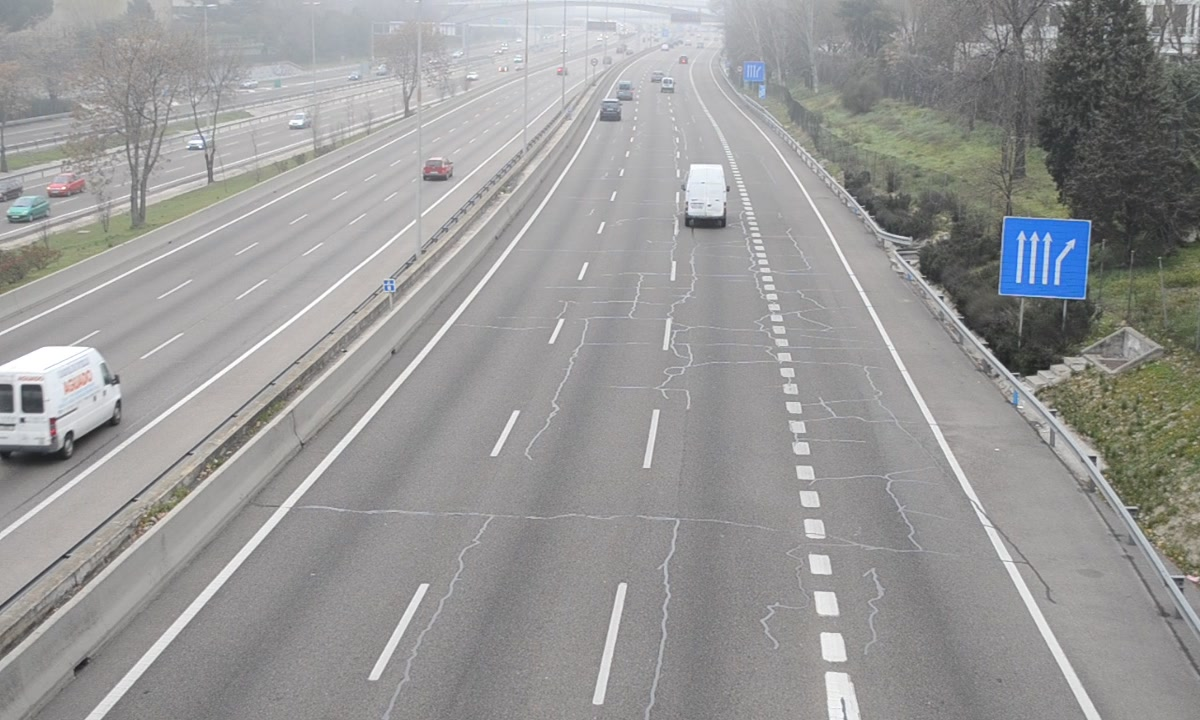car: (600, 99, 622, 123)
van: (682, 163, 729, 223)
